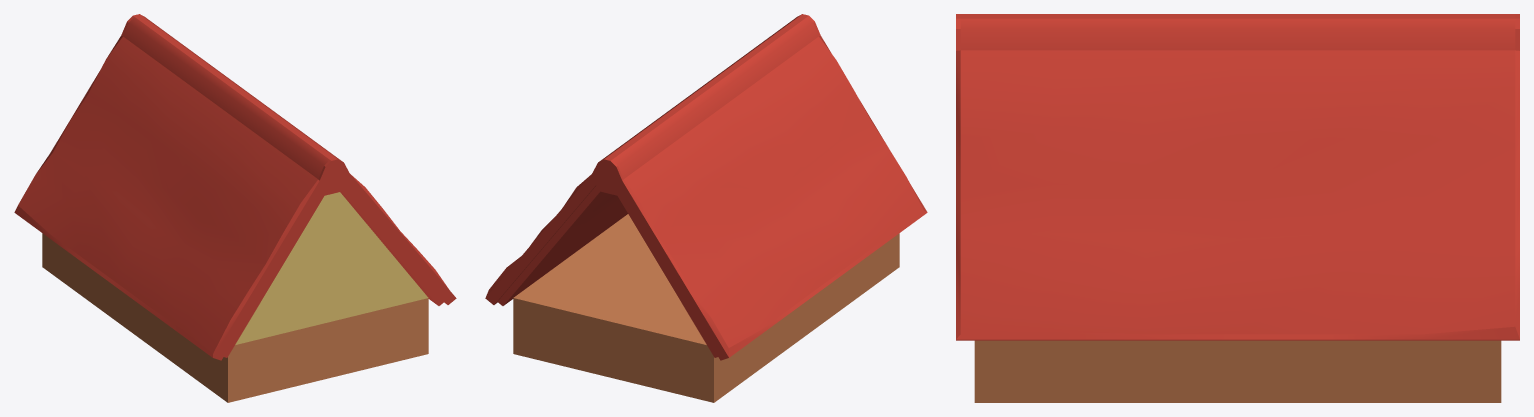
The model's file is House_01.fbx.
3 renders of one model, left to right at view 1: azimuth 30°, elevation 25°; view 2: azimuth 150°, elevation 25°; view 3: azimuth 270°, elevation 25°, orthographic. The views are drawn at different scales.
Parts seen in each view (by area): view 1: pasted__roof_top, pasted__house_wall, pasted__roof_face; view 2: pasted__roof_top, pasted__house_wall; view 3: pasted__roof_top, pasted__house_wall.
Part boxes in pixels (x1,y1,x2,y2): pasted__roof_top: (14,14,456,360); pasted__house_wall: (42,233,428,402); pasted__roof_face: (235,192,428,344); pasted__roof_top: (485,14,927,360); pasted__house_wall: (513,214,899,402); pasted__roof_top: (956,14,1519,340); pasted__house_wall: (974,340,1501,402).
Size of the model in its own units: 911 by 797 by 1284.
